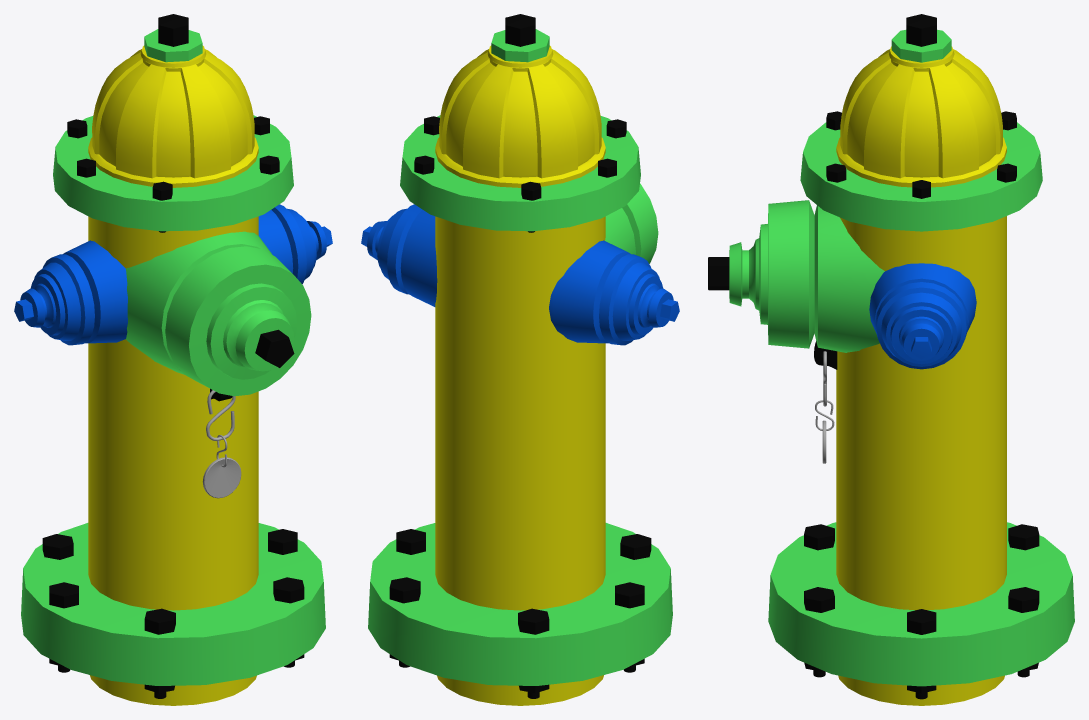
File: firehydrant_low.fbx
3 views of the same model, side by side, from view 1: azimuth 30°, elevation 25°; view 2: azimuth 150°, elevation 25°; view 3: azimuth 270°, elevation 25° (orthographic).
Visible parts, largest first — view 1: BG3_low, BG2_low, BG4_low, nutsBolts_low, BG6_low, BG5_low; view 2: BG3_low, BG2_low, BG4_low, nutsBolts_low; view 3: BG3_low, BG2_low, BG4_low, nutsBolts_low.
Boxes of the visible parts, x1,y1,x2,y2 form: BG3_low: [88, 45, 258, 705]; BG2_low: [21, 29, 325, 685]; BG4_low: [14, 204, 332, 345]; nutsBolts_low: [42, 14, 304, 698]; BG6_low: [202, 457, 241, 498]; BG5_low: [206, 390, 235, 467]; BG3_low: [435, 45, 605, 705]; BG2_low: [368, 29, 672, 685]; BG4_low: [361, 204, 679, 345]; nutsBolts_low: [389, 14, 651, 698]; BG3_low: [836, 46, 1006, 705]; BG2_low: [729, 29, 1074, 686]; BG4_low: [869, 263, 976, 369]; nutsBolts_low: [708, 14, 1039, 699].
Size of the model in its own units: 43.3 by 86.85 by 44.51.
